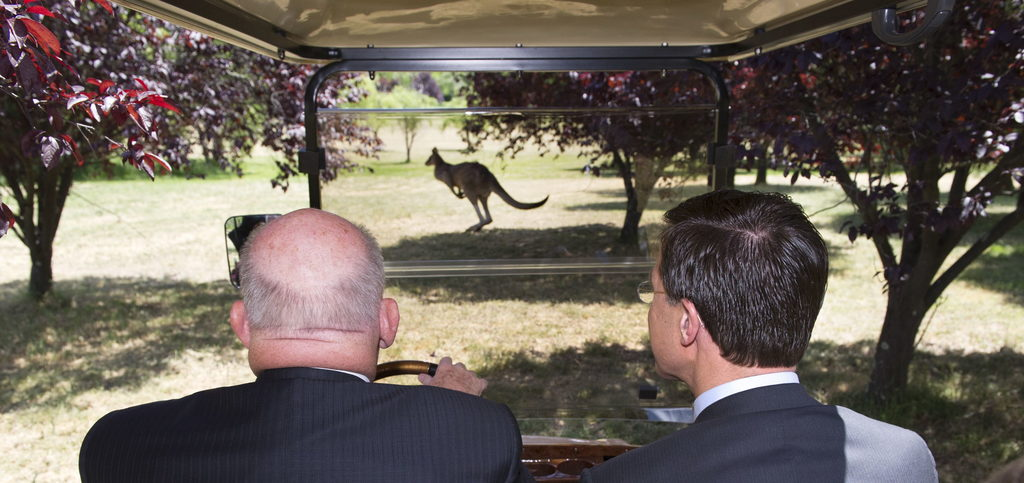kangaroo: (422, 149, 547, 236)
